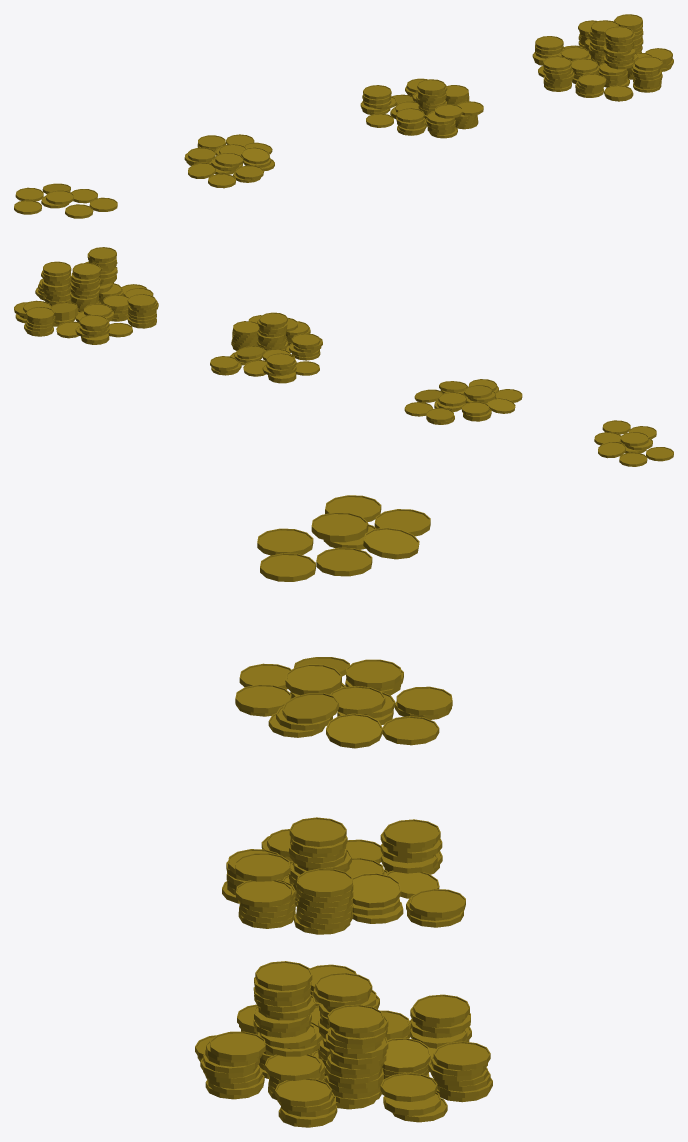
The model's file is CoinsAsset.obj.
3 views of the same model, one above another, from view 1: azimuth 30°, elevation 25°; view 2: azimuth 150°, elevation 25°; view 3: azimuth 270°, elevation 25° (orthographic). The views are drawn at different scales.
Parts seen in each view (by area): view 1: Coins4, Coins3, Coins2, Coins1; view 2: Coins4, Coins3, Coins2, Coins1; view 3: Coins4, Coins3, Coins2, Coins1.
Part boxes in pixels (x1,y1,x2,y2): Coins4: (532,14,673,101); Coins3: (360,78,483,138); Coins2: (184,134,274,188); Coins1: (14,183,117,218); Coins4: (14,247,158,344); Coins3: (210,312,322,383); Coins2: (404,379,522,424); Coins1: (594,420,673,466); Coins4: (195,961,492,1127); Coins3: (222,817,465,934); Coins2: (235,657,452,748); Coins1: (257,495,430,581).
Size of the model in its own units: 0.5745 by 0.0422 by 0.1149.
